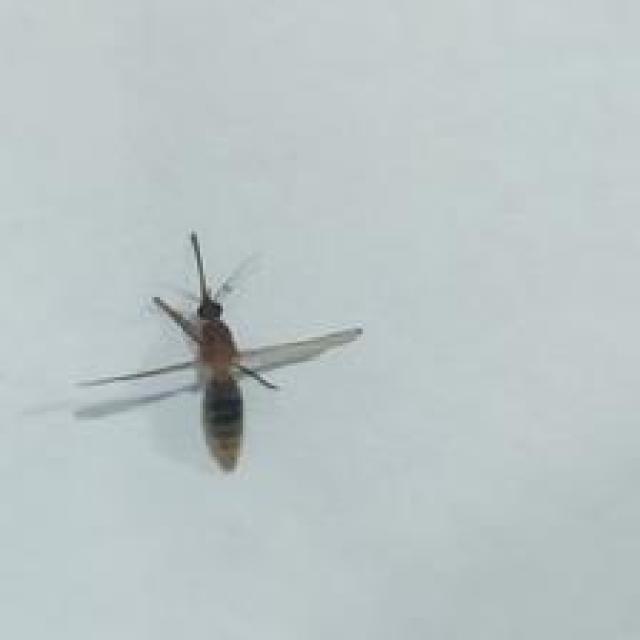Culex: (70, 229, 364, 474)
